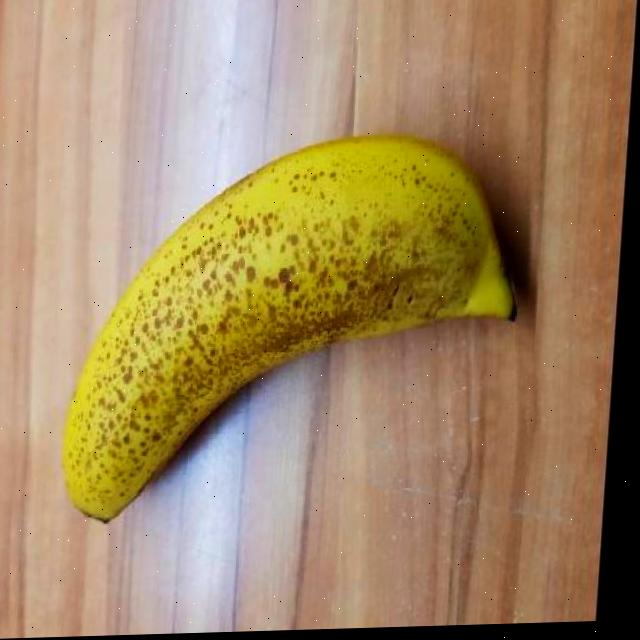banana: (55, 120, 540, 527)
